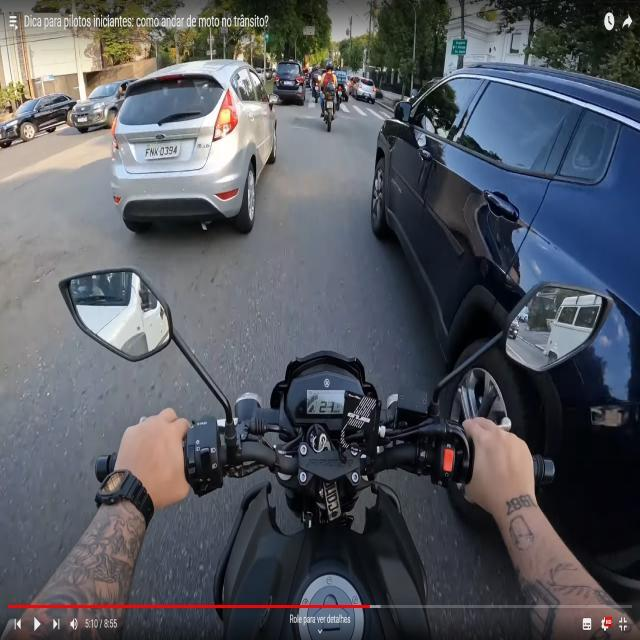Placa_mercosul_carro: (145, 141, 180, 159)
